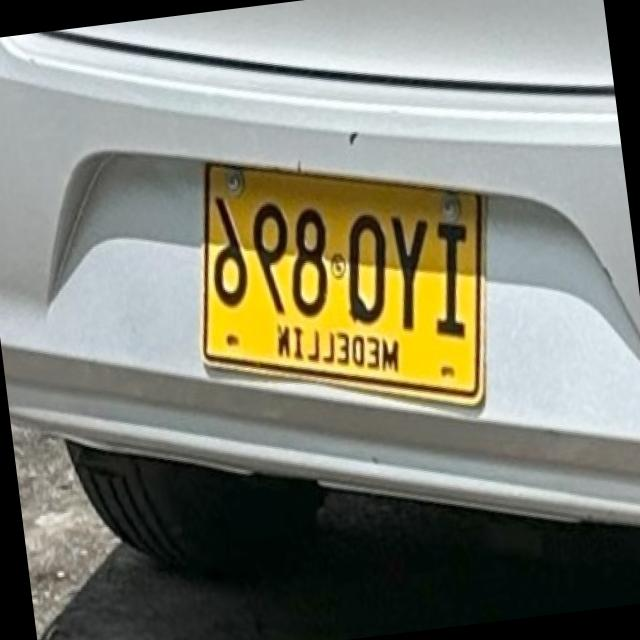number plate: (205, 162, 485, 400)
